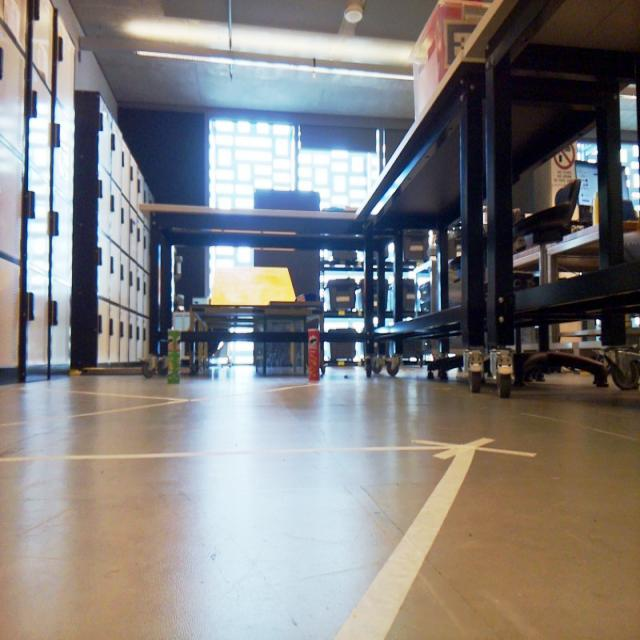greenpringles: (163, 323, 190, 392)
redpringles: (300, 318, 326, 384)
